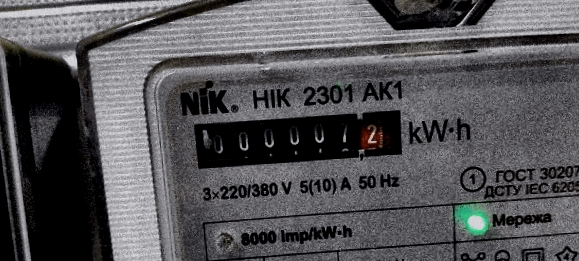0: (286, 123, 302, 147), (210, 130, 225, 155), (261, 125, 276, 149), (311, 121, 325, 144), (236, 129, 250, 151)
2: (364, 122, 379, 145)
7: (337, 119, 350, 144)
screen: (182, 99, 413, 177)
